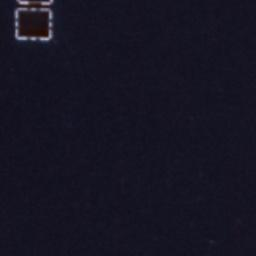square_solid: (10, 4, 57, 44)
